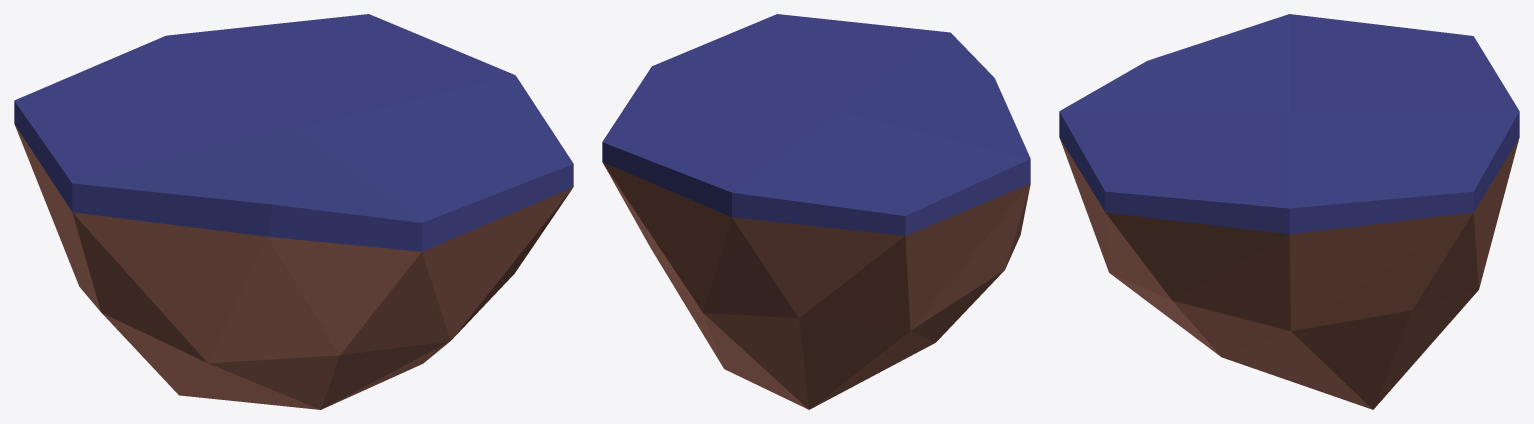
File: 01_01Island_Blue.fbx
The picture shows the model from 3 angles, left to right: view 1: azimuth 30°, elevation 25°; view 2: azimuth 150°, elevation 25°; view 3: azimuth 270°, elevation 25°; orthographic projection. The views are drawn at different scales.
Parts seen in each view (by area): view 1: Icosphere.022; view 2: Icosphere.022; view 3: Icosphere.022.
Part boxes in pixels (x1,y1,x2,y2): Icosphere.022: (14, 14, 573, 409); Icosphere.022: (602, 14, 1030, 409); Icosphere.022: (1059, 14, 1519, 409).
Bounding box in the file's own units: 200 × 127 × 200.
